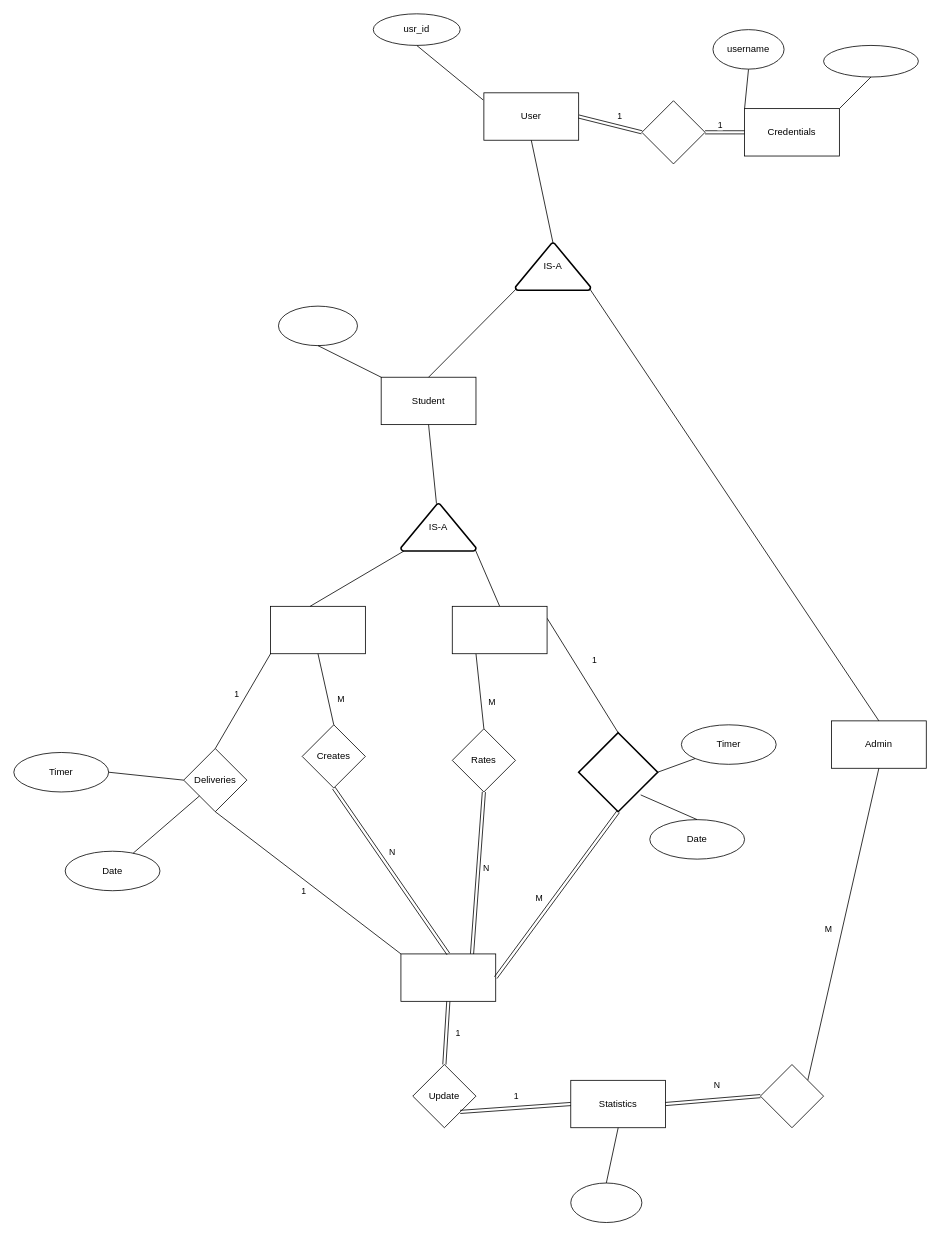
Some shapes in this 940 by 1236 pixel diagram are drawn without their labels. Each missing label, with the box of its shape:
average_rating: (570, 1182, 642, 1223)
Cooker: (270, 606, 365, 654)
credits: (278, 305, 357, 346)
Food_Ad: (400, 953, 496, 1001)
Handle: (760, 1064, 824, 1128)
Has: (641, 100, 705, 164)
password: (823, 45, 918, 77)
Receiver: (451, 606, 547, 654)
Request: (577, 732, 658, 812)
